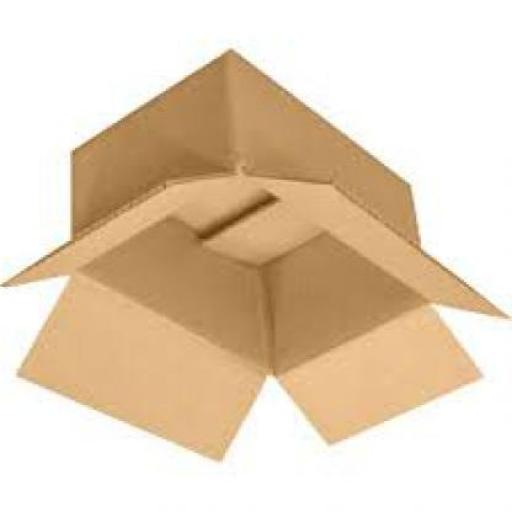cardboard: (4, 52, 510, 466)
